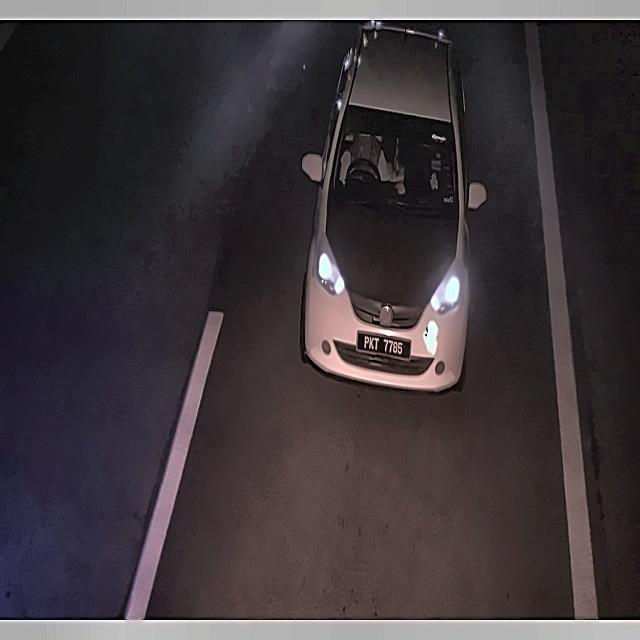car: (353, 326, 414, 365)
